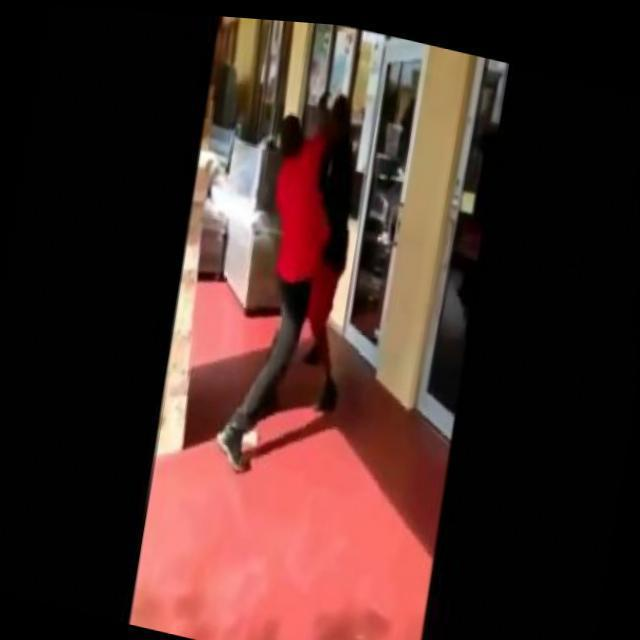fight: (214, 72, 386, 490)
